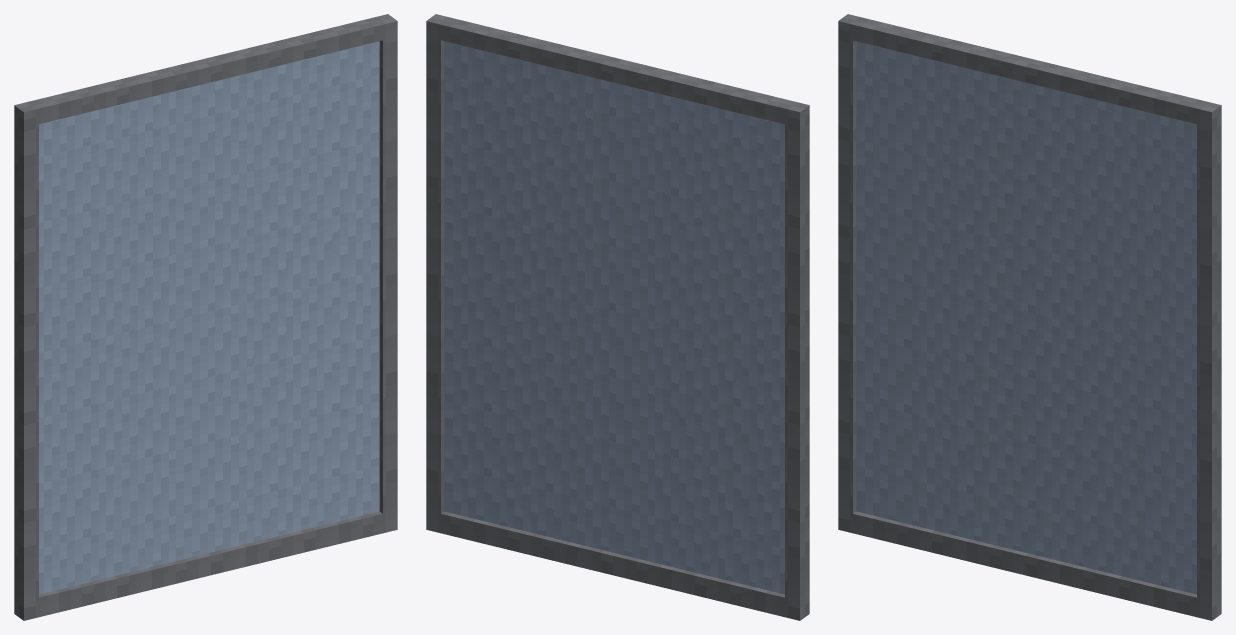
The model's file is pixel-modern-office-glass-partition-bay-9eb53e0c.glb.
The picture shows the model from 3 angles, left to right: view 1: azimuth 30°, elevation 25°; view 2: azimuth 150°, elevation 25°; view 3: azimuth 330°, elevation 25°; orthographic projection.
Visible parts, largest first — view 1: glass-partition-bay; view 2: glass-partition-bay; view 3: glass-partition-bay.
Part boxes in pixels (x1,y1,x2,y2): glass-partition-bay: (14,14,397,620); glass-partition-bay: (426,14,809,620); glass-partition-bay: (838,14,1221,620).
Bounding box in the file's own units: 2 × 2.6 × 0.0901.
Materials: 2 (2 with a texture image).
